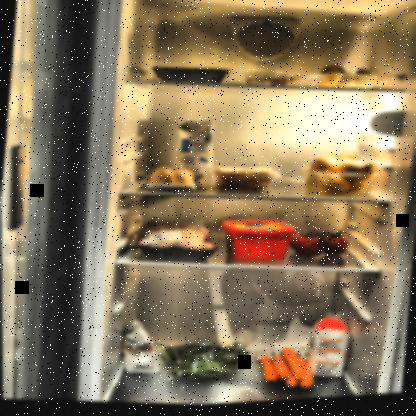butter: (217, 217, 295, 269)
carrot: (257, 346, 316, 398)
chicken: (132, 215, 218, 270)
eggs: (149, 166, 197, 194)
green_beans: (158, 337, 253, 390)
milk: (174, 120, 216, 191)
onion: (304, 152, 379, 206)
potato: (312, 64, 378, 96)
shrimp: (244, 71, 314, 95)
tomato: (287, 230, 353, 266)
